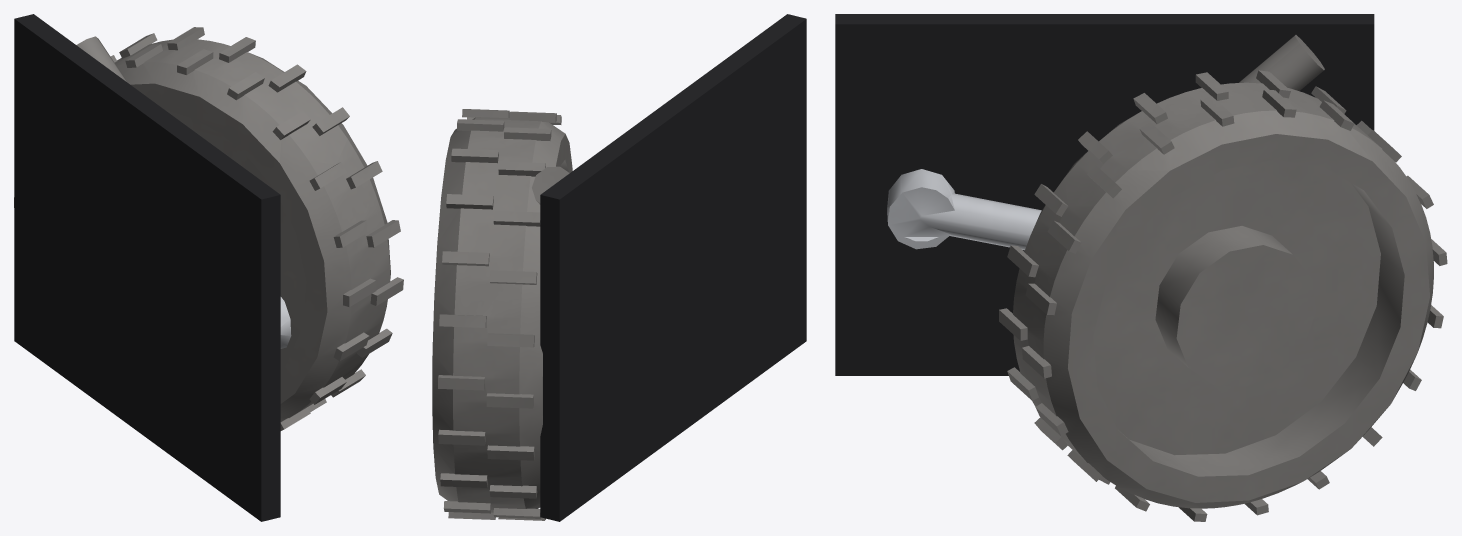
File: rover04_wheel_m_steer_left.glb
3 views of the same model, side by side, from view 1: azimuth 30°, elevation 25°; view 2: azimuth 150°, elevation 25°; view 3: azimuth 270°, elevation 25° (orthographic). The views are drawn at different scales.
Parts seen in each view (by area): view 1: mount_plate, wheel, damper, swing_arm; view 2: mount_plate, wheel, damper; view 3: wheel, mount_plate, swing_arm, damper.
Boxes of the visible parts, x1,y1,x2,y2 form: mount_plate: (14, 14, 280, 521); wheel: (14, 27, 403, 430); damper: (76, 36, 127, 82); swing_arm: (280, 297, 291, 348); mount_plate: (540, 14, 806, 521); wheel: (432, 109, 572, 520); damper: (532, 166, 569, 204); wheel: (999, 70, 1447, 521); mount_plate: (835, 14, 1374, 375); swing_arm: (887, 169, 1041, 250); damper: (1239, 35, 1324, 91).
Bounding box in the file's own units: 0.5697 × 0.8758 × 1.16.
3 materials, 2 textured.
